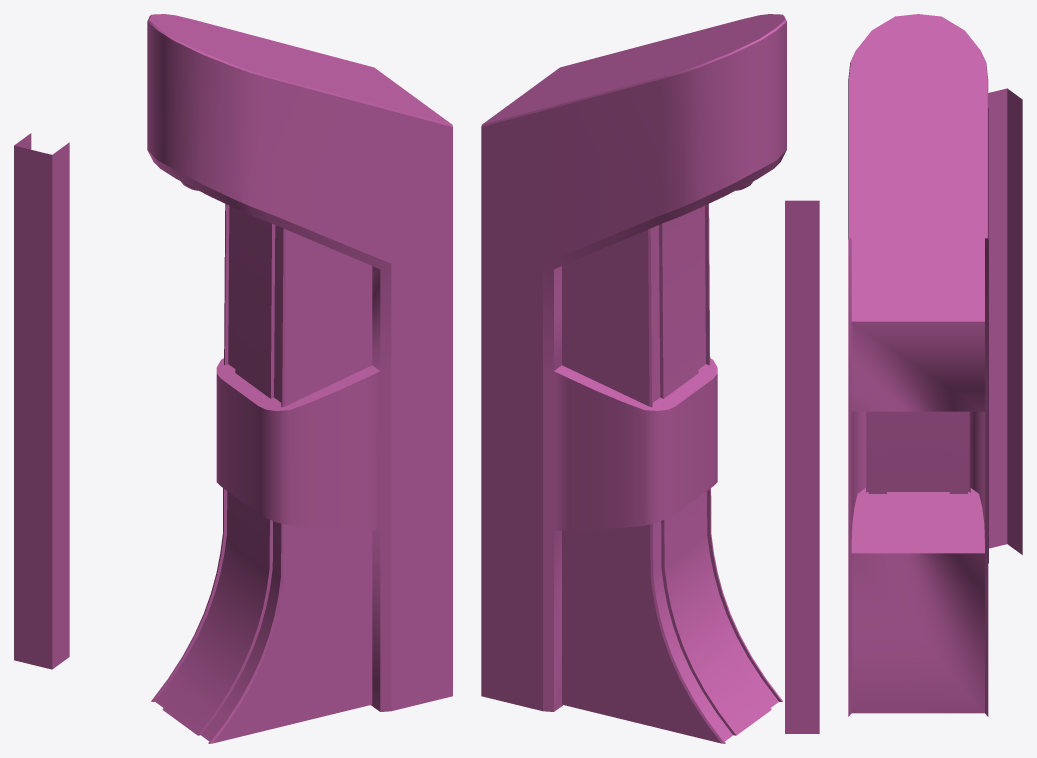
The picture shows the model from 3 angles, left to right: view 1: azimuth 30°, elevation 25°; view 2: azimuth 150°, elevation 25°; view 3: azimuth 270°, elevation 25°; orthographic projection. The views are drawn at different scales.
Visible parts, largest first — view 1: Box018, Box020; view 2: Box018, Box020; view 3: Box018, Box020.
Part boxes in pixels (<box>): Box018: <box>147,14,452,743</box>; Box020: <box>14,133,69,669</box>; Box018: <box>481,14,786,743</box>; Box020: <box>785,200,819,733</box>; Box018: <box>848,14,988,716</box>; Box020: <box>988,88,1022,563</box>.
Size of the model in its own units: 190 by 365 by 93.
